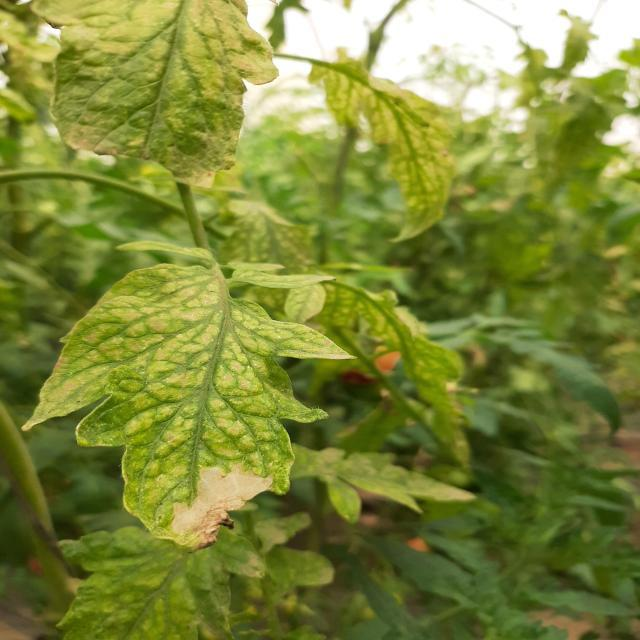Tuta absoluta: (157, 438, 277, 563)
